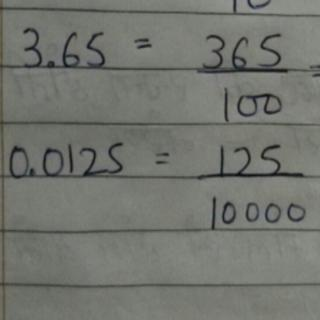.: (44, 54, 58, 71), (26, 166, 40, 181)
0: (9, 144, 31, 179), (41, 145, 65, 177), (261, 91, 284, 114), (237, 93, 259, 117), (286, 202, 306, 225), (264, 201, 283, 225), (245, 202, 260, 224), (223, 201, 237, 224)
1: (67, 141, 77, 177), (221, 84, 230, 122), (209, 196, 218, 232), (219, 144, 227, 174)
2: (77, 144, 104, 176)
3: (18, 27, 47, 71), (204, 31, 226, 72)
5: (253, 29, 288, 71), (84, 30, 114, 75), (260, 139, 287, 172), (105, 141, 128, 175)
6: (229, 35, 254, 70), (61, 29, 82, 70)
